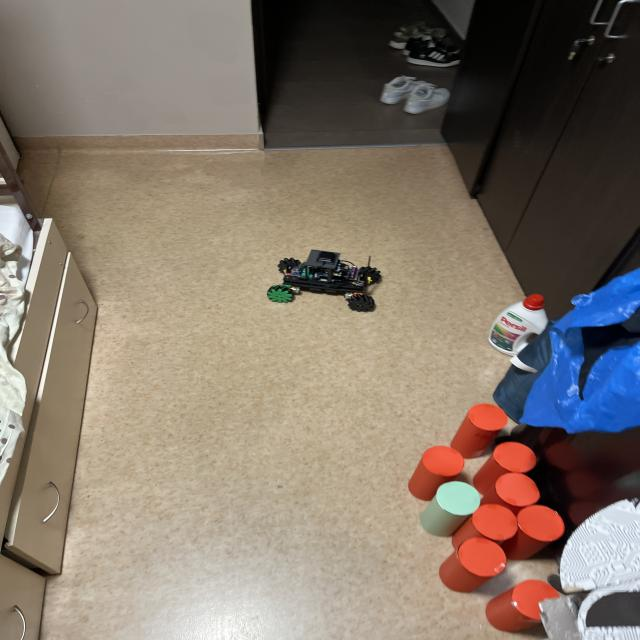robot: (267, 250, 381, 312)
